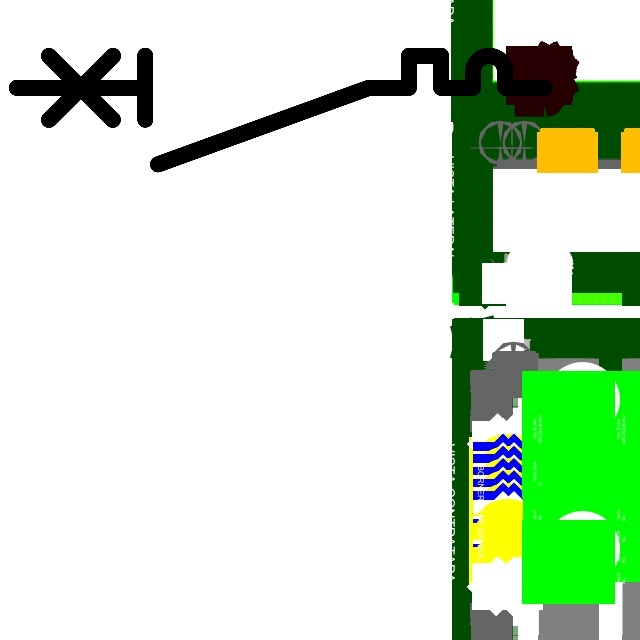interruptor_termomagnetico: (3, 42, 559, 178)
